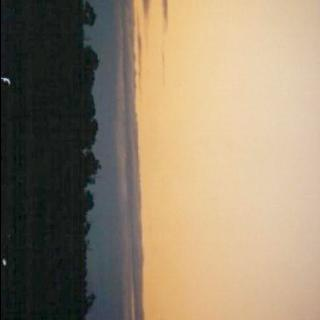Stratocumulus: (54, 0, 289, 320)
